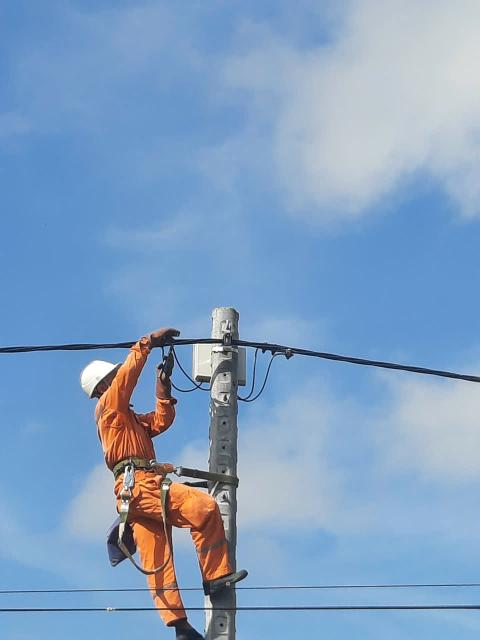gloves: (131, 352, 182, 408), (135, 328, 187, 352)
harness: (103, 446, 188, 488)
helmet: (73, 354, 141, 408)
shoes: (200, 558, 254, 598), (168, 616, 209, 640)
